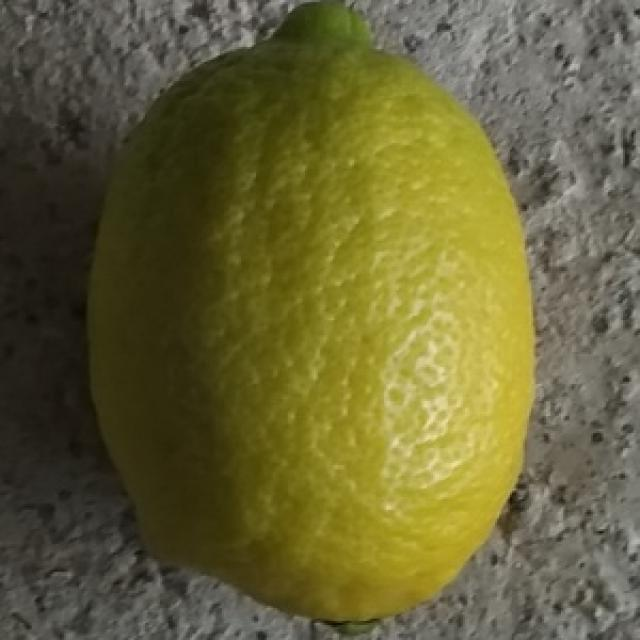Lemon: (82, 2, 537, 631)
